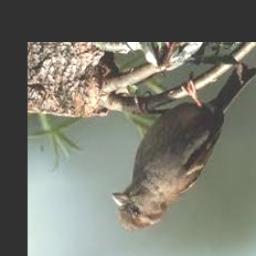Sparrow: (111, 63, 256, 233)
